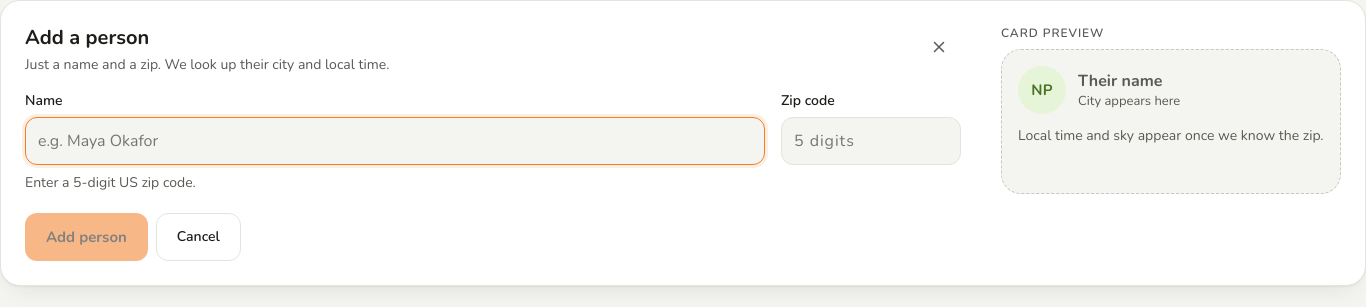
Test case: AddSheet › a zip that isn't a real US zip is refused straight away, without a lookup
Type "Noor Haddad" into the field labelled "Name".
click(395, 141); type("Noor Haddad")  # box [25,117,765,165]
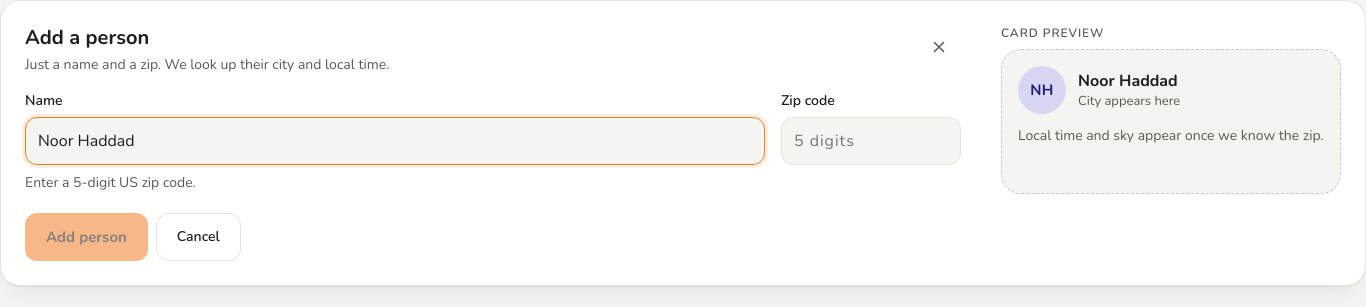
Type "99999" into the field labelled "Zip code".
click(871, 141); type("99999")  # box [781,117,961,165]
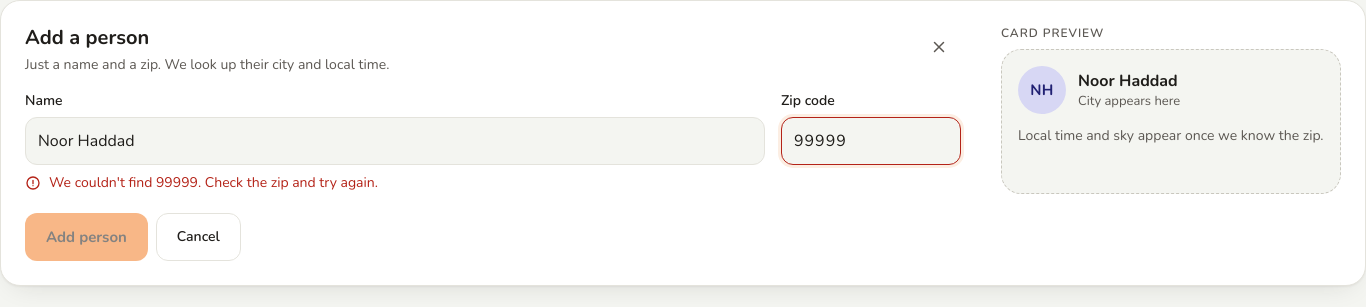
Expected: the button "Add person" is disabled, [25,213,148,261]
Now the element showing "We couldn't find 99999. Check the zip and try again." is shown, box [25,173,378,192]
